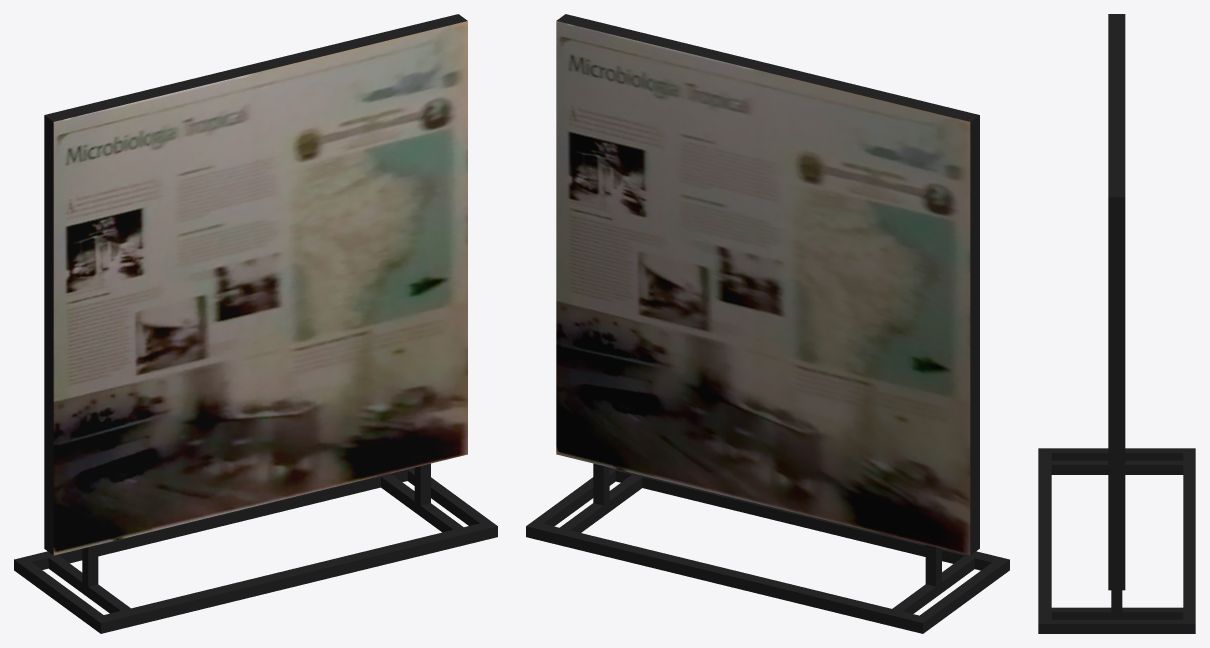
Rendered from painel.fbx.
3 views of the same model, side by side, from view 1: azimuth 30°, elevation 25°; view 2: azimuth 150°, elevation 25°; view 3: azimuth 270°, elevation 25° (orthographic). The views are drawn at different scales.
Visible parts, largest first — view 1: painel; view 2: painel; view 3: painel.
Part boxes in pixels (x1,y1,x2,y2): painel: [14, 14, 497, 633]; painel: [526, 14, 1009, 633]; painel: [1038, 14, 1195, 633].
Size of the model in its own units: 1200 by 1344 by 436.
2 materials, 1 textured.
